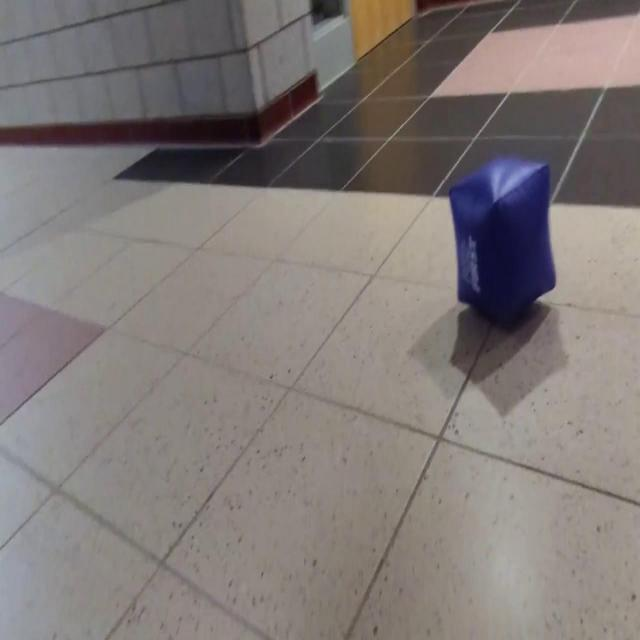frc_cube: (447, 150, 555, 330)
